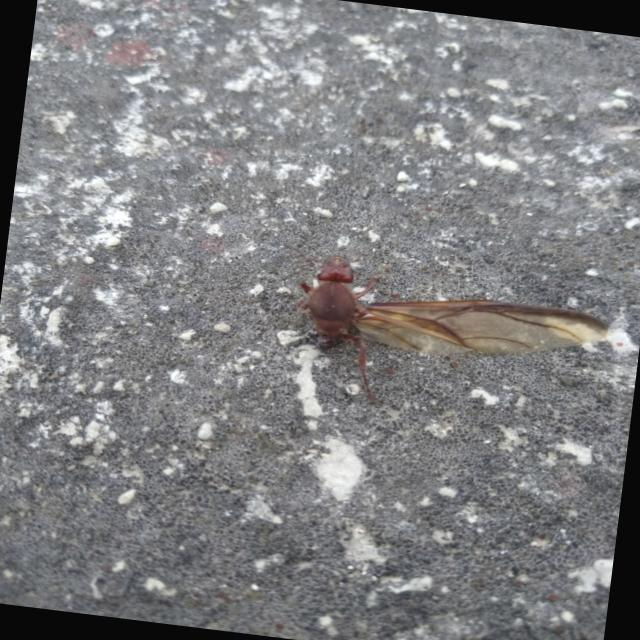Dead-Female-Alate: (265, 243, 613, 433)
